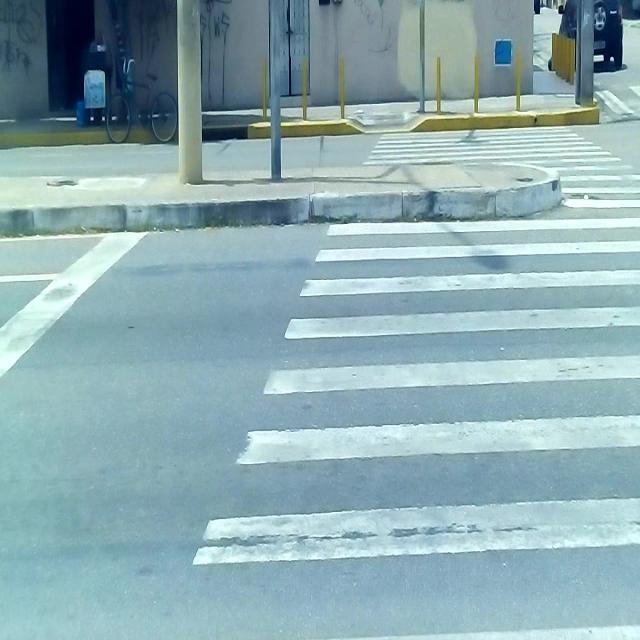crosswalk: (151, 125, 640, 640), (593, 79, 640, 121)
